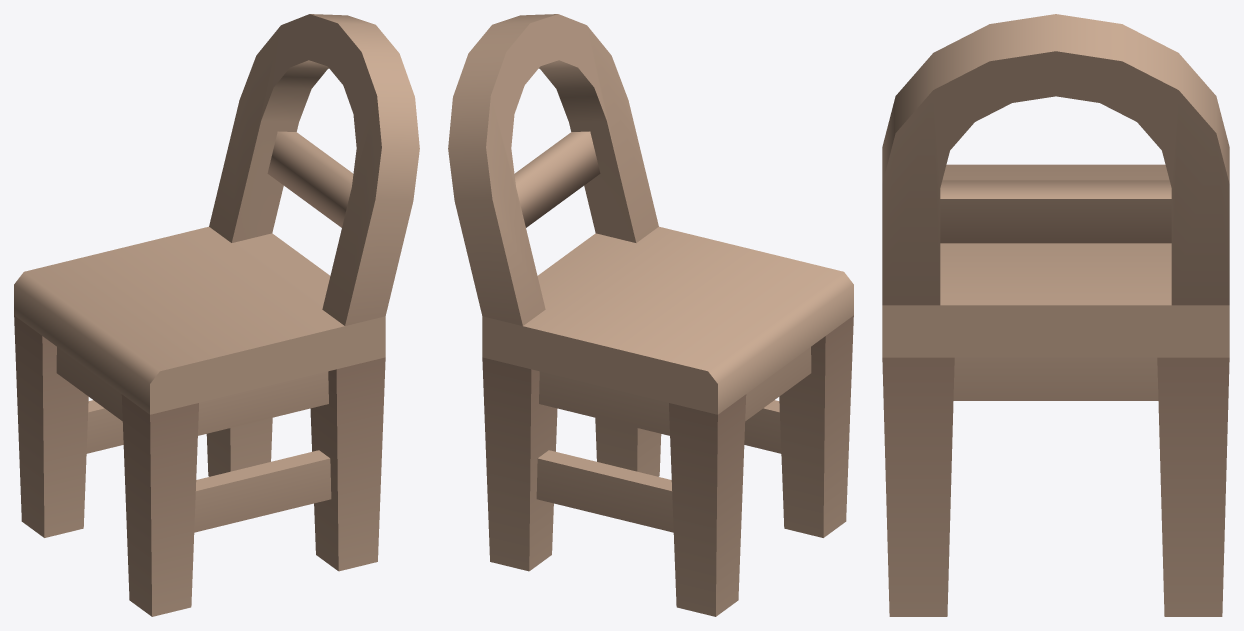
The model's file is wooden-chair-round.glb.
3 views of the same model, side by side, from view 1: azimuth 30°, elevation 25°; view 2: azimuth 150°, elevation 25°; view 3: azimuth 270°, elevation 25° (orthographic). The views are drawn at different scales.
Parts seen in each view (by area): view 1: wooden-chair-round; view 2: wooden-chair-round; view 3: wooden-chair-round.
Part boxes in pixels (box(x1,y1,x2,y2)): wooden-chair-round: box(14, 14, 419, 616); wooden-chair-round: box(448, 14, 853, 616); wooden-chair-round: box(882, 14, 1229, 616).
Size of the model in its own units: 0.449 by 0.7077 by 0.36.
